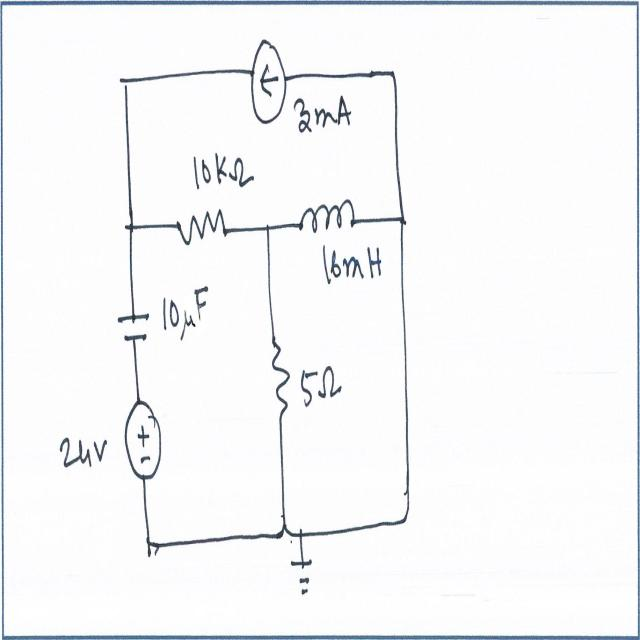capacitor: (112, 301, 155, 350)
current_source: (249, 32, 288, 127)
ground: (288, 547, 314, 601)
inductor: (296, 188, 358, 245)
resistor: (172, 204, 230, 252), (268, 332, 294, 425)
voltage_source: (122, 397, 166, 482)
